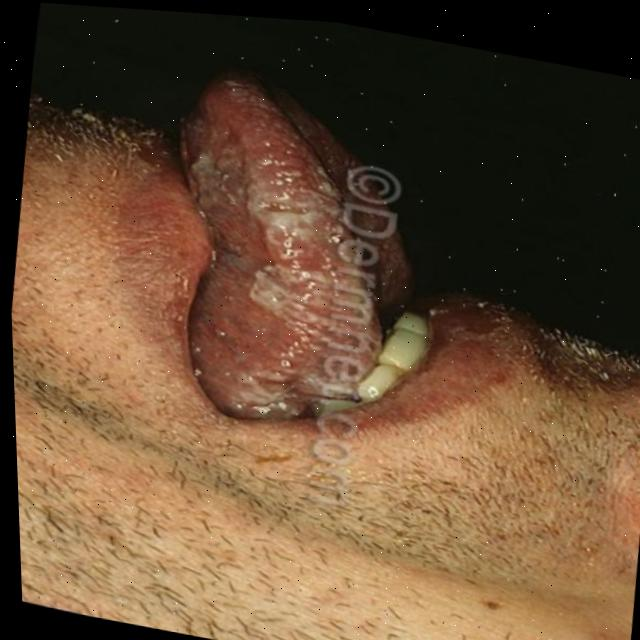Shingles: (186, 107, 354, 354)
